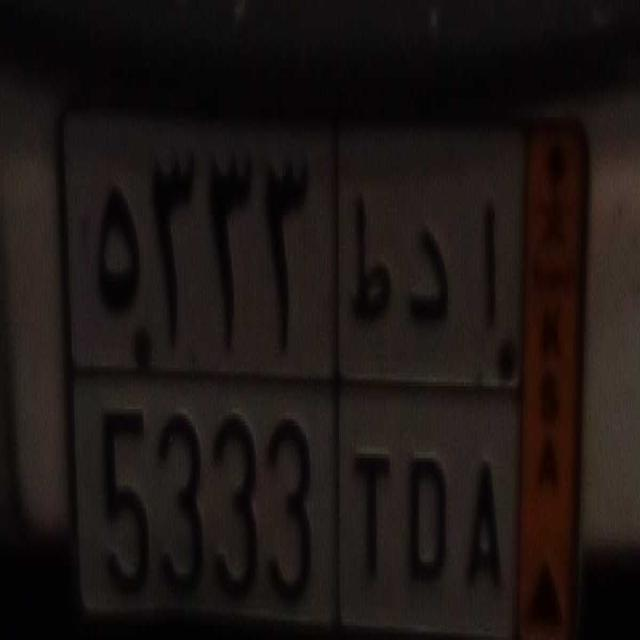license_plate: (68, 362, 518, 637)
